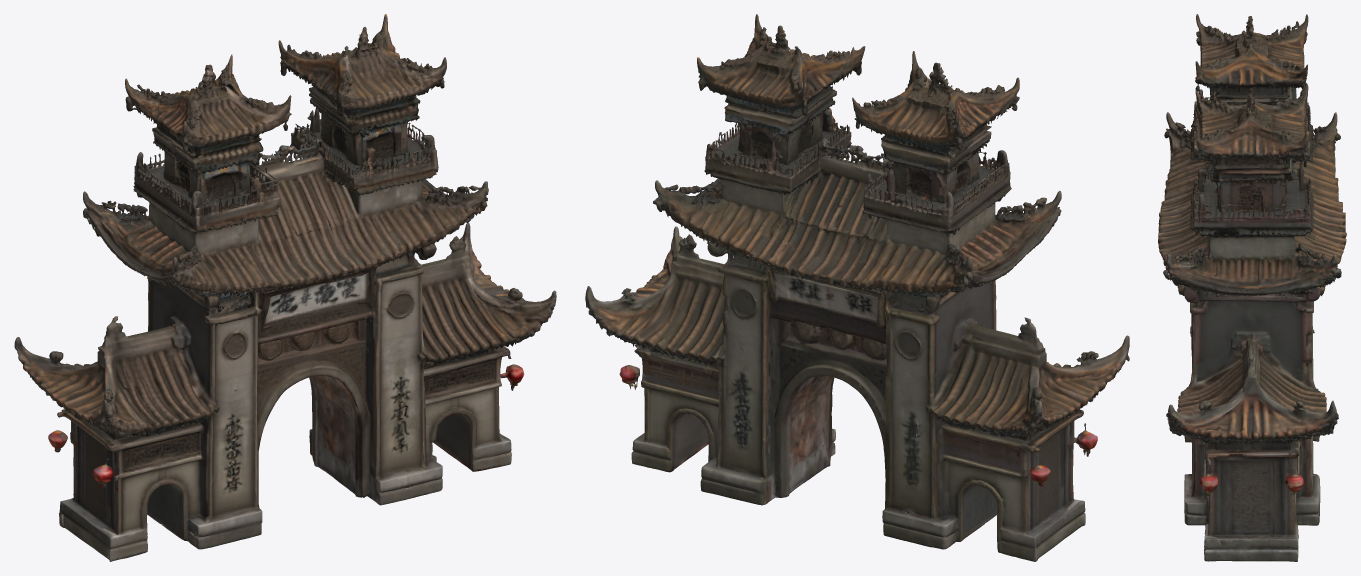
Rendered from Meshy_AI_Dark_oriental_gateway_1016102548_texture.fbx.
3 renders of one model, left to right at view 1: azimuth 30°, elevation 25°; view 2: azimuth 150°, elevation 25°; view 3: azimuth 270°, elevation 25°, orthographic. The views are drawn at different scales.
Visible parts, largest first — view 1: Mesh_0; view 2: Mesh_0; view 3: Mesh_0.
Part boxes in pixels (box(x1,y1,x2,y2)): Mesh_0: box(14, 14, 556, 561); Mesh_0: box(585, 14, 1129, 561); Mesh_0: box(1158, 14, 1346, 561).
Size of the model in its own units: 200 by 188 by 76.95.
1 material, 1 textured.
